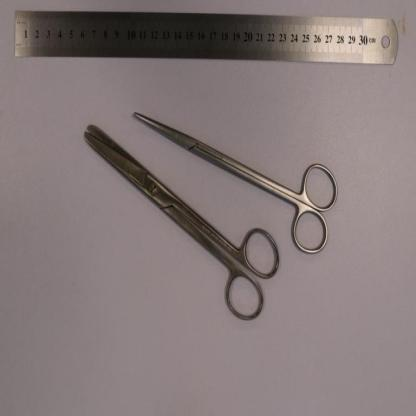7 Metzenbaum Scissors: (134, 112, 340, 254)
Dressing Scissors: (84, 122, 282, 323)
